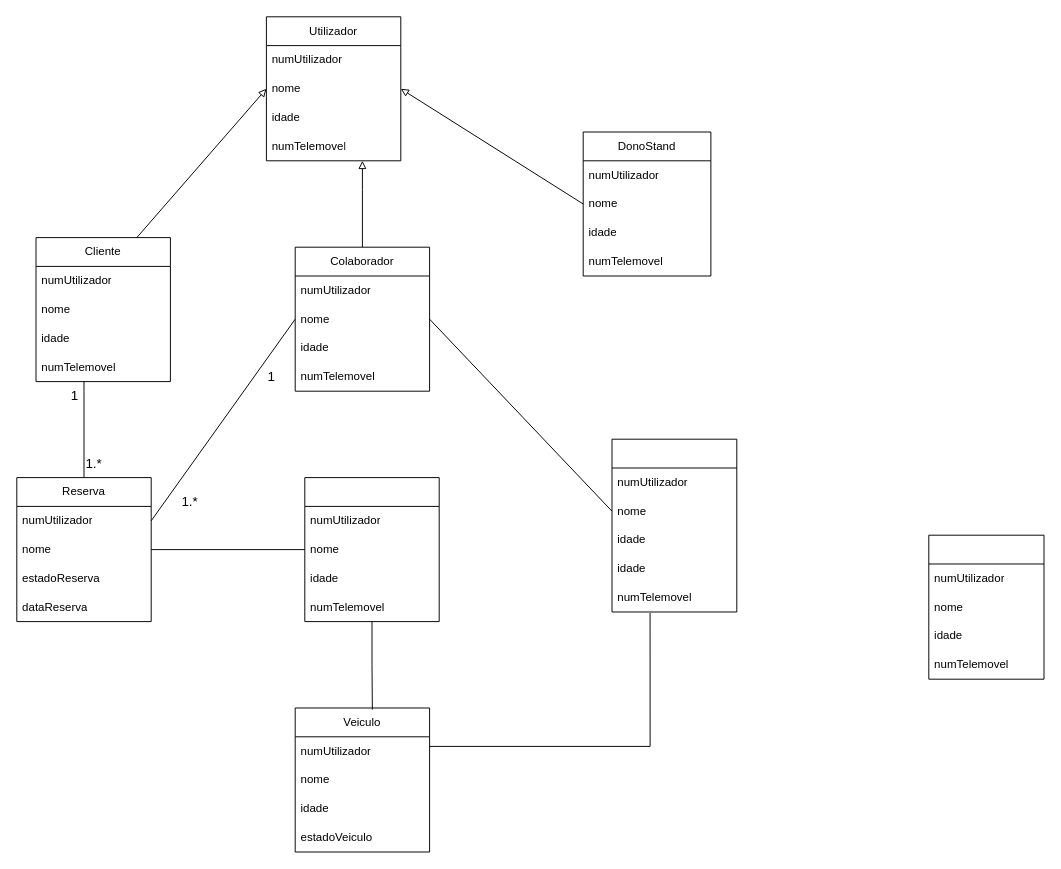
The diagram is 1061 pixels wide and 869 high, and some of its shapes have lost their labels. The box of each missing label's shape, as (x1, y1, x2, y2) in pixels:
EstadoVenda: (928, 534, 1044, 679)
Stand: (304, 477, 439, 622)
Venda: (611, 438, 737, 612)
